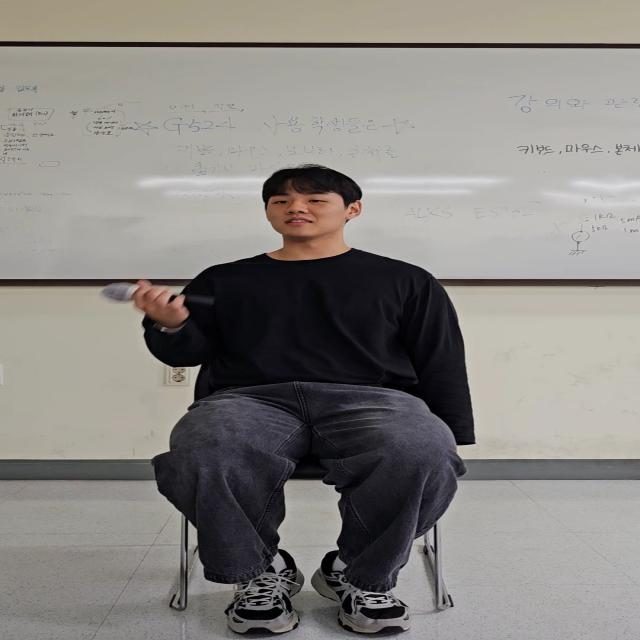curl: (109, 252, 242, 372)
